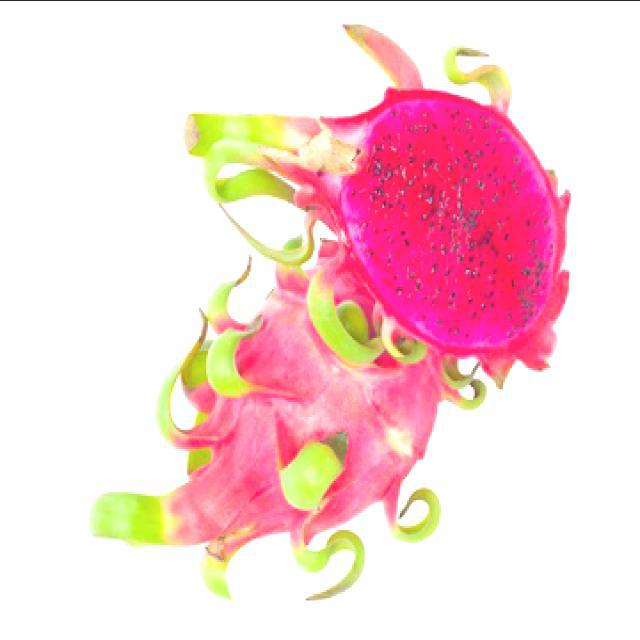do: (185, 18, 574, 392), (83, 226, 463, 598)
